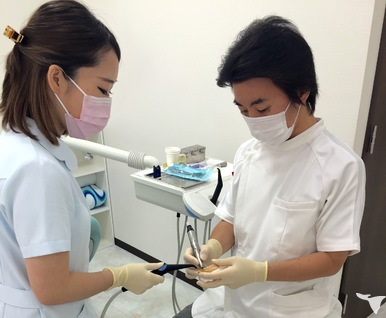mask: (63, 93, 113, 139), (242, 112, 296, 145)
